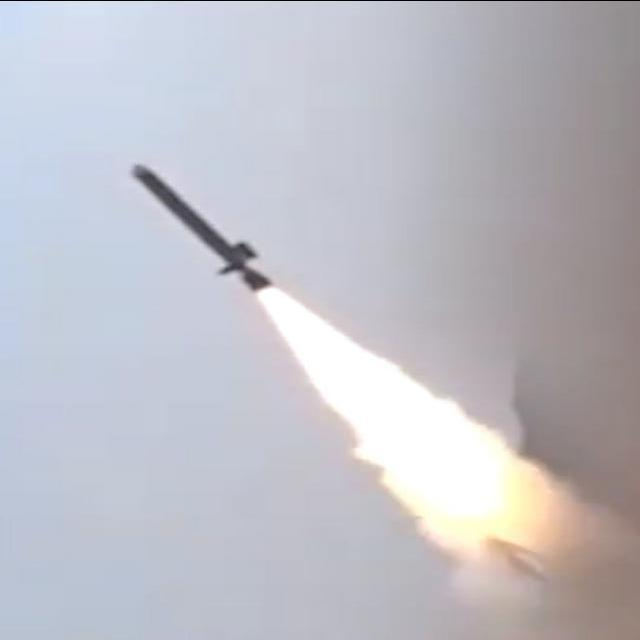missile: (128, 161, 276, 295)
